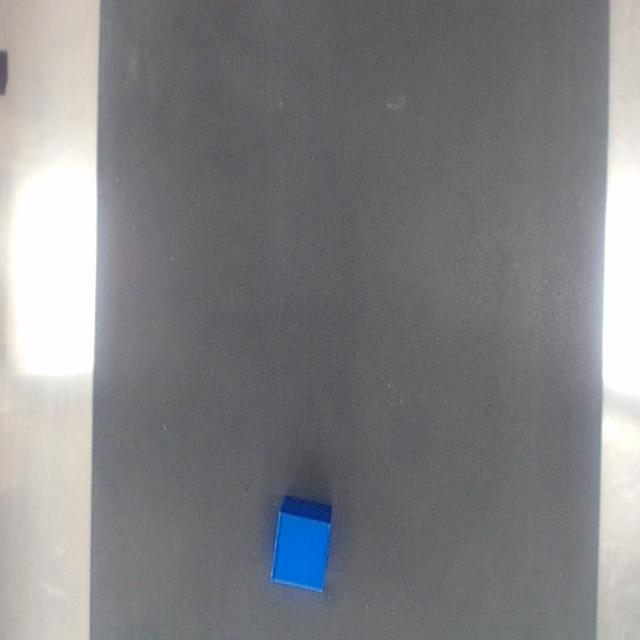Azul: (271, 496, 331, 592)
